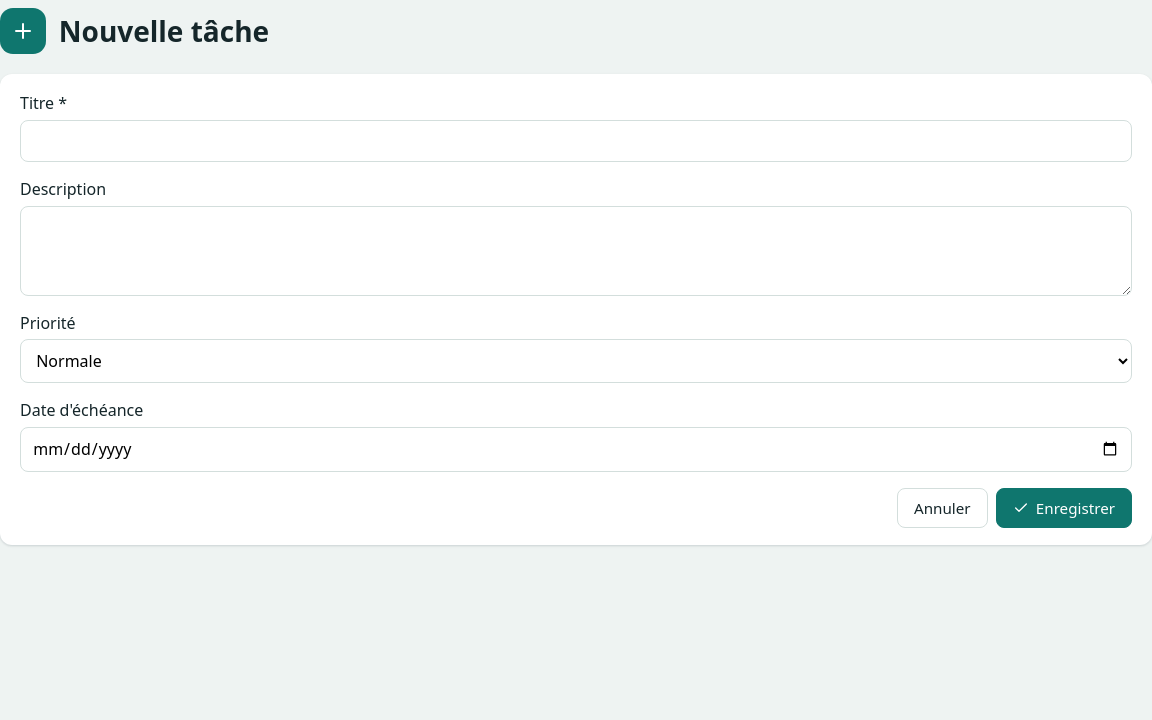
Test: TaskForm › affiche les erreurs de l'API par champ
This screenshot has width=1152, height=720.
Type "Ma tâche" into the field with test id "title". click: (576,141)
box: x1=20 y1=120 x2=1132 y2=162
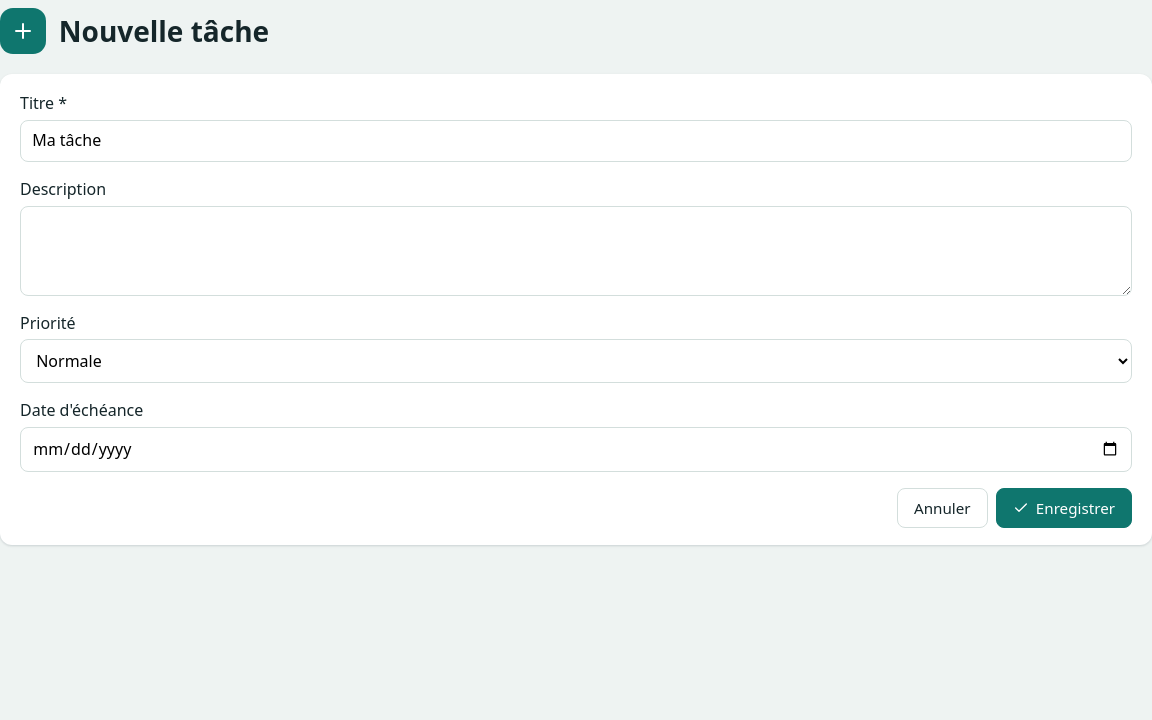
Submit the form
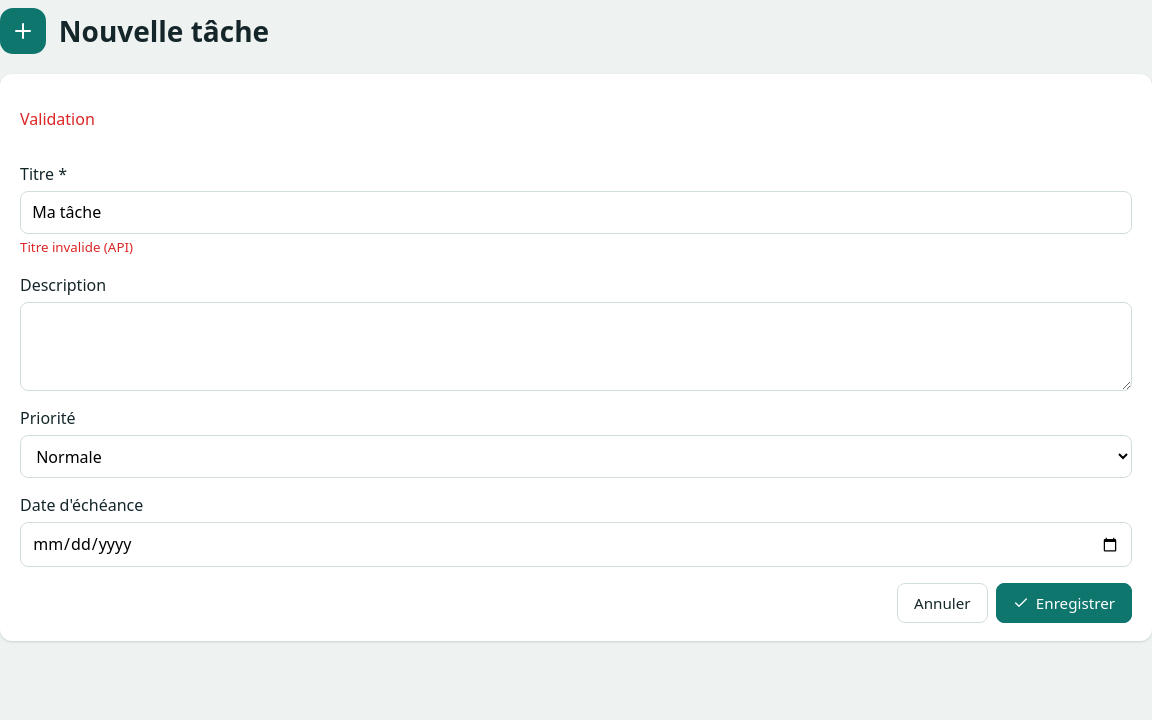
Now the text with test id "title-error" reads "Titre invalide (API)", box x1=20 y1=238 x2=133 y2=256
